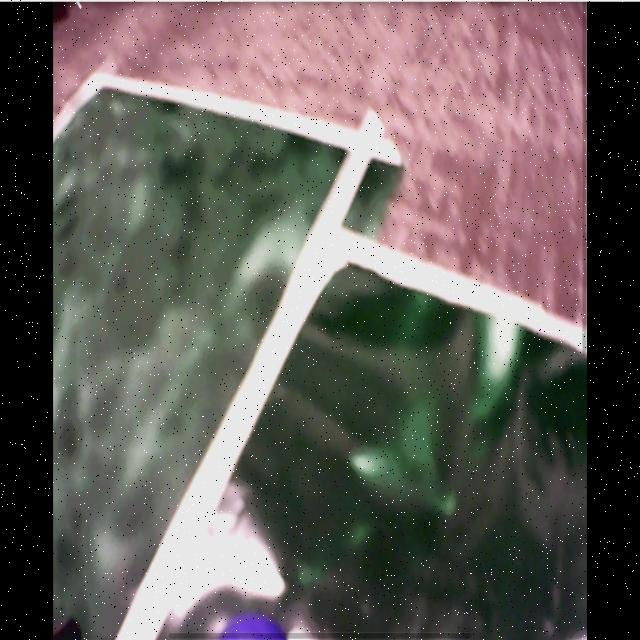ball: (219, 614, 287, 640)
